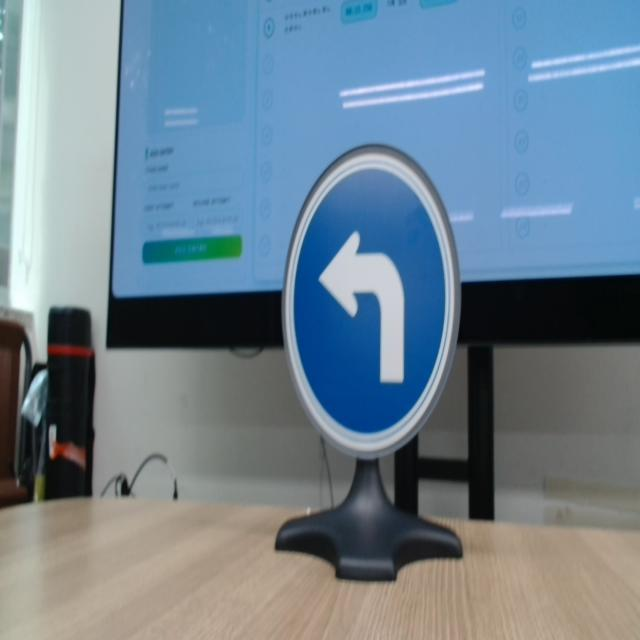left_direction: (282, 146, 471, 470)
